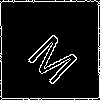M: (25, 25, 87, 87)
